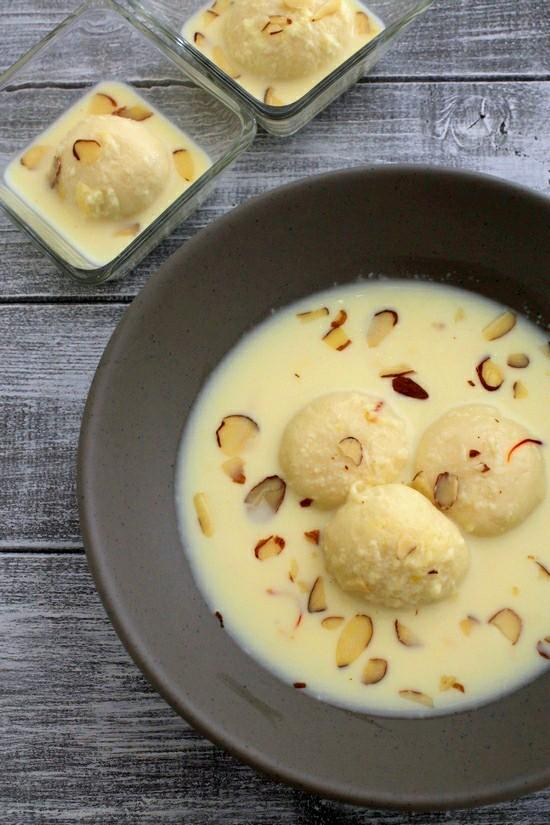RasMalai: (182, 284, 550, 710), (1, 74, 209, 263)
